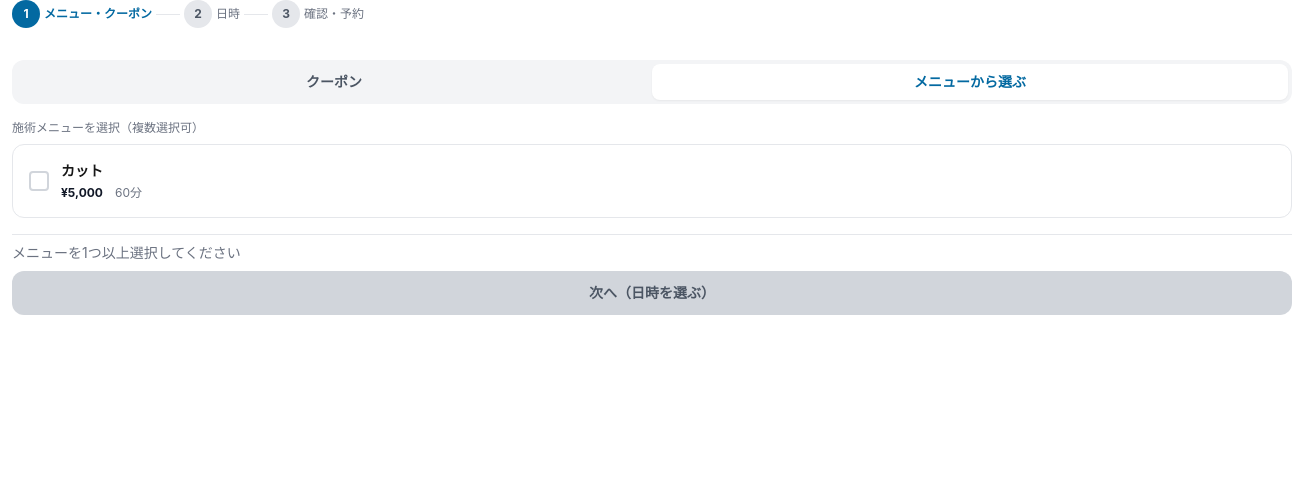
Test case: defect2: 当日予約がカレンダー先頭から到達可能 › 週マトリクスの先頭列（1列目）が「翌日」ではなく当日（現在のJST日付）になり「本日」ラベルが付く
Click the text "カット" at (82, 171), box [61,161,103,181]
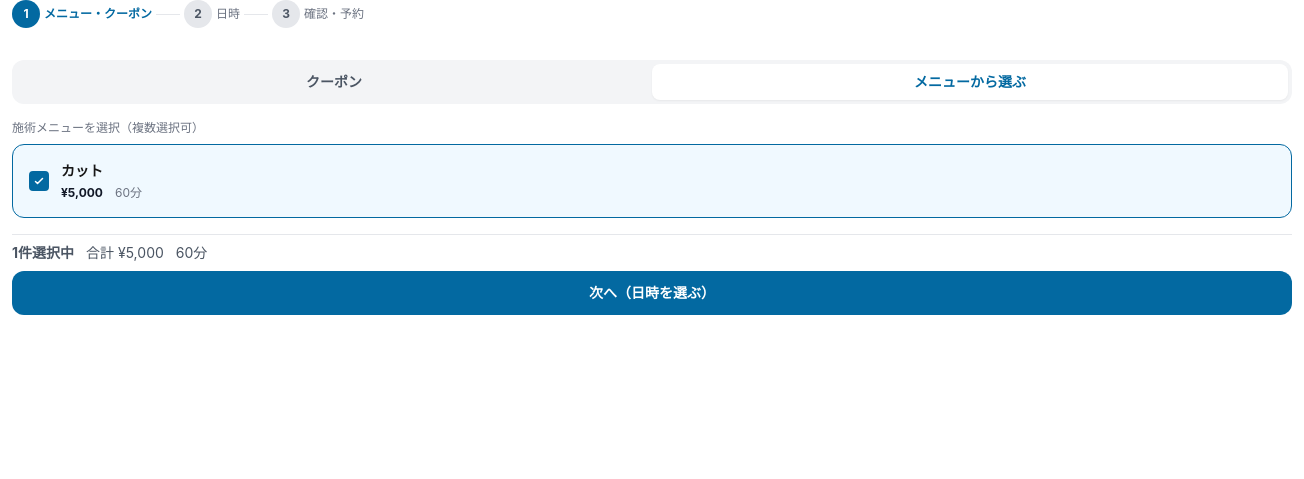
Click the button "次へ（日時を選ぶ）" at (652, 293), box [12,271,1292,315]
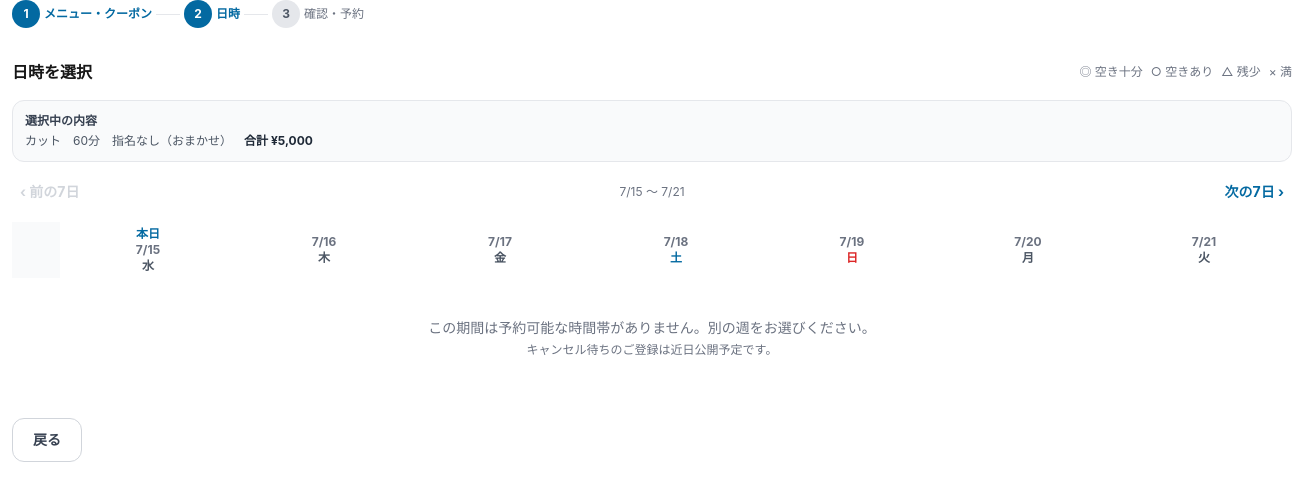
Expected: the text "7/16" is not shown
Result: the heading "日時を選択" is shown at [12,60,92,84]
Result: the column heading "本日 7/15 水" is shown at [60,222,236,278]
